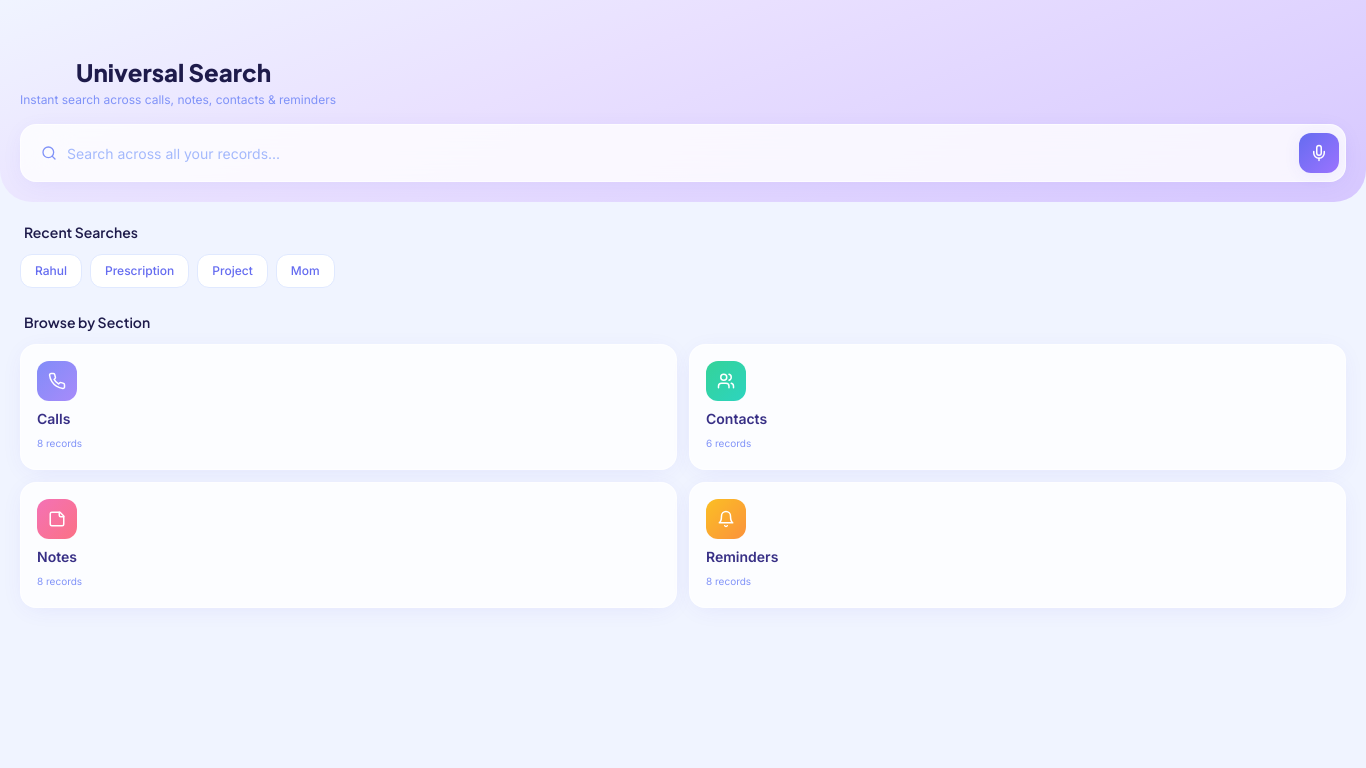
Test: SearchScreen — Universal Search › shows empty state when no records match
Type "nonexistent_query_xyz" into the field with placeholder "Search across all your records...". click: (659, 153)
box: [27, 131, 1291, 175]
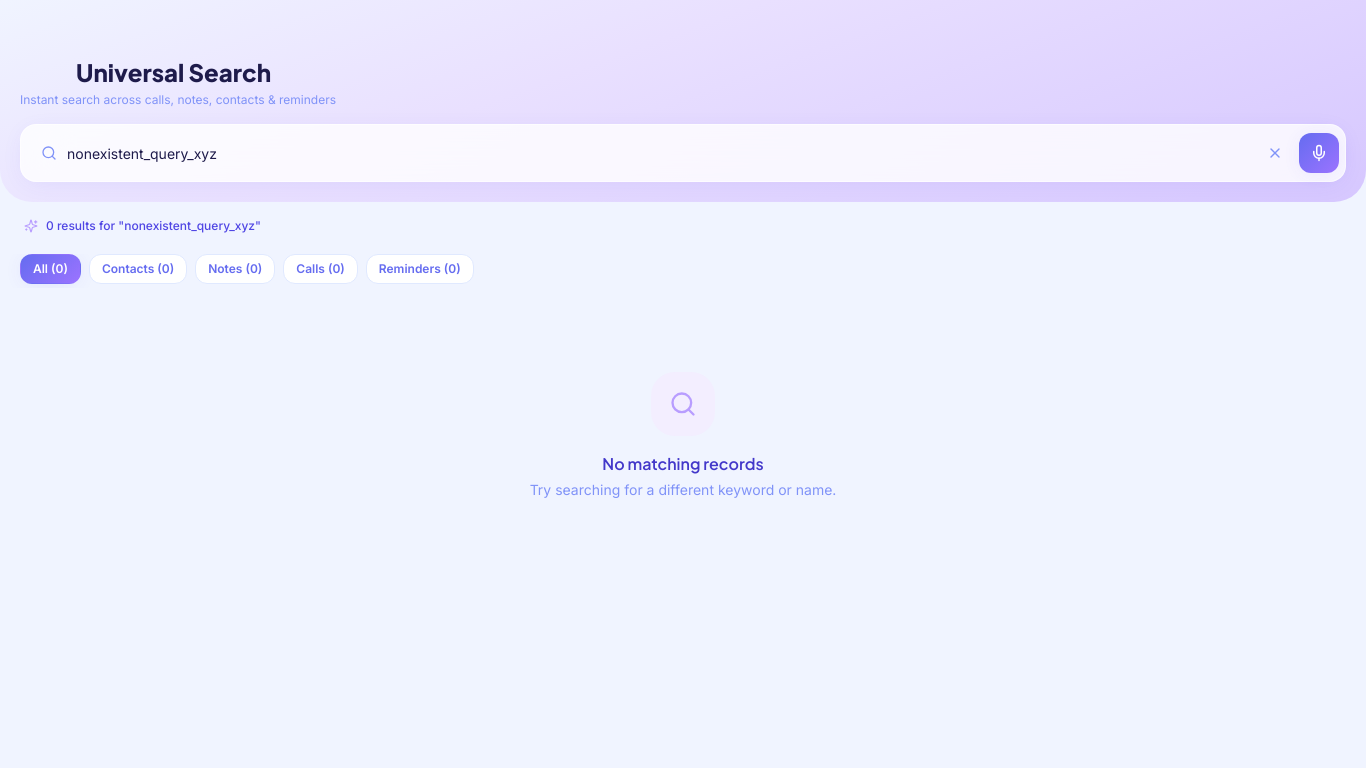
Now the heading "No matching records" is shown, box [602, 452, 764, 476]
